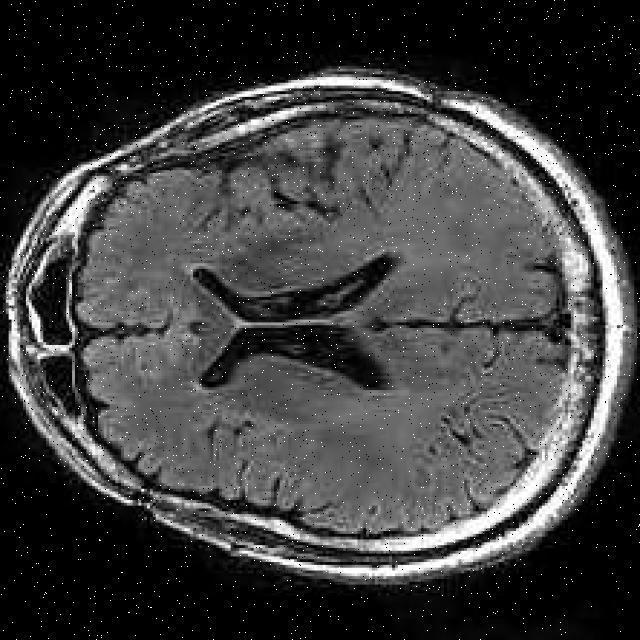No_Tumor: (6, 68, 634, 583)
